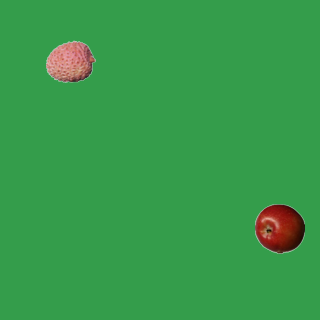Apple Braeburn: (254, 203, 304, 253)
Lychee: (45, 36, 95, 86)
